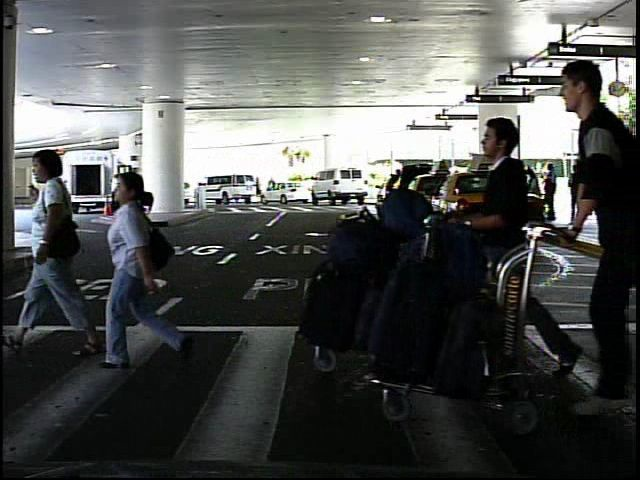person: (445, 103, 554, 394), (27, 137, 114, 358), (92, 158, 173, 382), (105, 172, 123, 222), (588, 172, 597, 216)
